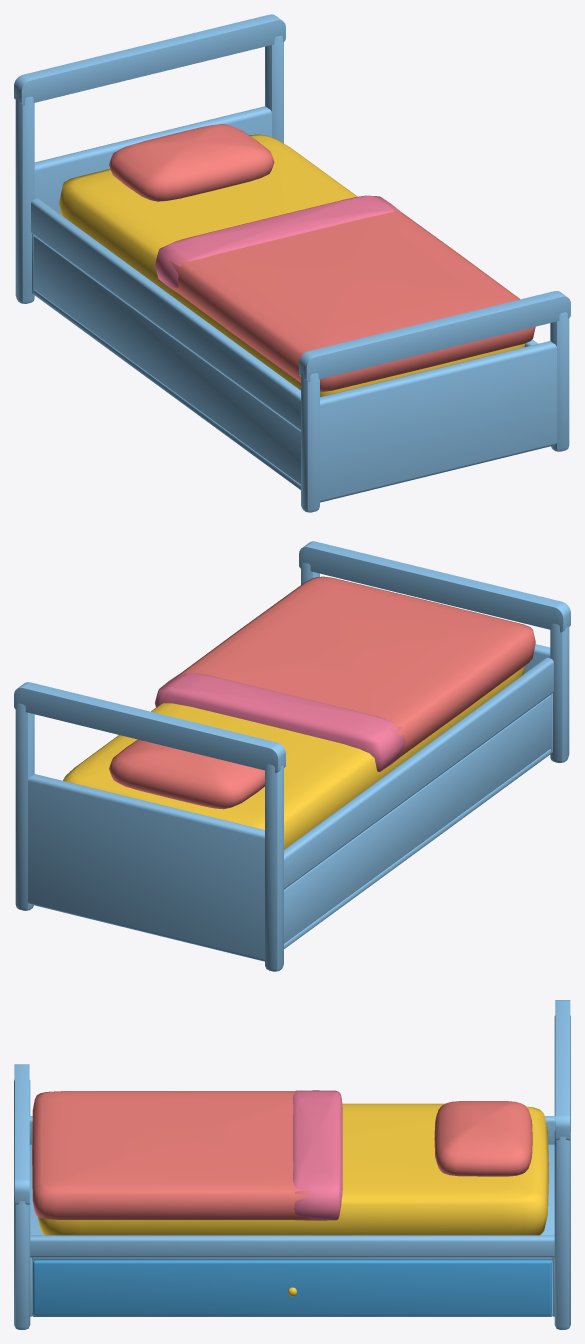
The model's file is cama_infantil_gaveta_azul.glb.
The picture shows the model from 3 angles, top to bottom: view 1: azimuth 30°, elevation 25°; view 2: azimuth 150°, elevation 25°; view 3: azimuth 270°, elevation 25°; orthographic projection. The views are drawn at different scales.
Visible parts, largest first — view 1: cama_infantil_gaveta_azul; view 2: cama_infantil_gaveta_azul; view 3: cama_infantil_gaveta_azul, gaveta_1.
Part boxes in pixels (x1=…): cama_infantil_gaveta_azul: x1=14, y1=14, x2=570, y2=512; cama_infantil_gaveta_azul: x1=14, y1=541, x2=570, y2=971; cama_infantil_gaveta_azul: x1=14, y1=1000, x2=570, y2=1329; gaveta_1: x1=33, y1=1260, x2=551, y2=1315.
Size of the model in its own units: 1.08 by 0.86 by 2.04.
Materials: 1 (1 with a texture image).
